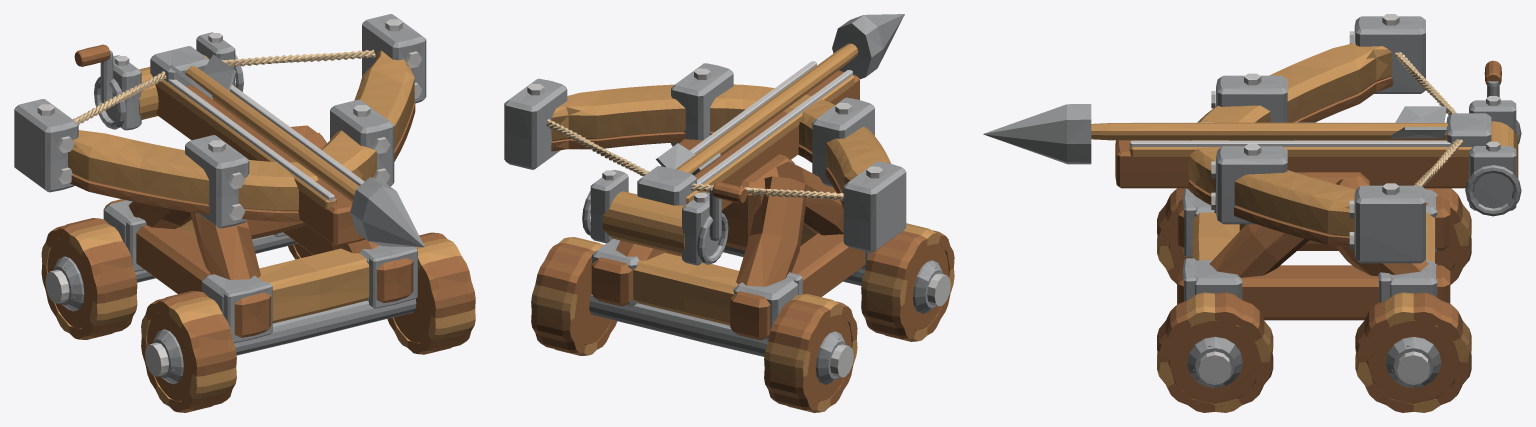
File: kingsreach.glb
3 renders of one model, left to right at view 1: azimuth 30°, elevation 25°; view 2: azimuth 150°, elevation 25°; view 3: azimuth 270°, elevation 25°, orthographic. The views are drawn at different scales.
Parts seen in each view (by area): view 1: Ballista — broad continuously curved upper laminate 1, Siege carriage — wheel 1 0.285 — source angular joined timbe (×6), Siege carriage — wheel 1 -0.285 — source angular joined timb (×6), Siege carriage — chamfered cross timber -0.28, Siege carriage — chamfered main timber 1, Siege carriage — wheel -1 -0.285 — source angular joined tim (×5), Ballista — deep chamfered firing bed, Ballista — broad continuously curved upper laminate -1, Ballista — thick limb collar 1 1, Ballista — long loaded bolt shaft, Siege carriage — physical axle -0.285, Ballista — large physical steel bolt head (+36 smaller); view 2: Ballista — broad continuously curved upper laminate -1, Siege carriage — wheel 1 0.285 — source angular joined timbe (×6), Siege carriage — chamfered cross timber 0.28, Ballista — rear timber brace 1, Siege carriage — wheel -1 0.285 — source angular joined timb (×5), Siege carriage — chamfered main timber 1, Siege carriage — wheel 1 -0.285 — source angular joined timb (×5), Ballista — thick limb collar 1 1, Ballista — thick limb collar -1 1, Ballista — transverse winch barrel, Siege carriage — physical axle 0.285, Ballista — long loaded bolt shaft (+32 smaller); view 3: Siege carriage — chamfered main timber -1, Ballista — deep chamfered firing bed, Ballista — broad continuously curved upper laminate -1, Ballista — broad continuously curved upper laminate 1, Ballista — long loaded bolt shaft, Ballista — thick limb collar -1 1, Ballista — large physical steel bolt head, Siege carriage — wheel -1 0.285 — source angular joined timb (×6), Siege carriage — wheel -1 -0.285 — chamfered inner timber di, Siege carriage — wheel -1 0.285 — chamfered inner timber dis, Siege carriage — wheel -1 -0.285 — source angular joined tim (×5), Ballista — thick limb collar 1 1 (+28 smaller).
Part boxes in pixels (x1,y1,x2,y2): Ballista — broad continuously curved upper laminate 1: (68,130,318,211); Siege carriage — wheel 1 0.285 — source angular joined timbe (×6): (56,218,137,337); Siege carriage — wheel 1 -0.285 — source angular joined timb (×6): (155,290,236,410); Siege carriage — chamfered cross timber -0.28: (258,248,369,323); Siege carriage — chamfered main timber 1: (103,199,271,337); Siege carriage — wheel -1 -0.285 — source angular joined tim (×5): (414,238,475,351); Ballista — deep chamfered firing bed: (155,84,365,245); Ballista — broad continuously curved upper laminate -1: (321,50,414,181); Ballista — thick limb collar 1 1: (14,99,78,192); Ballista — long loaded bolt shaft: (185,66,359,201); Siege carriage — physical axle -0.285: (234,299,416,355); Ballista — large physical steel bolt head: (350,177,424,247); Ballista — broad continuously curved upper laminate -1: (551,84,774,141); Siege carriage — wheel 1 0.285 — source angular joined timbe (×6): (764,294,843,410); Siege carriage — chamfered cross timber 0.28: (633,253,739,325); Ballista — rear timber brace 1: (736,176,805,286); Siege carriage — wheel -1 0.285 — source angular joined timb (×5): (531,243,594,353); Siege carriage — chamfered main timber 1: (730,233,865,340); Siege carriage — wheel 1 -0.285 — source angular joined timb (×5): (861,231,927,339); Ballista — thick limb collar 1 1: (843,161,906,252); Ballista — thick limb collar -1 1: (504,78,567,169); Ballista — transverse winch barrel: (602,191,684,255); Siege carriage — physical axle 0.285: (589,294,768,356); Ballista — long loaded bolt shaft: (676,43,858,174); Siege carriage — chamfered main timber -1: (1177,265,1450,320); Ballista — deep chamfered firing bed: (1115,140,1468,188); Ballista — broad continuously curved upper laminate -1: (1188,140,1355,236); Ballista — broad continuously curved upper laminate 1: (1189,43,1392,140); Ballista — long loaded bolt shaft: (1091,122,1447,140); Ballista — thick limb collar -1 1: (1354,185,1425,263); Ballista — large physical steel bolt head: (983,104,1091,164); Siege carriage — wheel -1 0.285 — source angular joined timb (×6): (1355,292,1471,362); Siege carriage — wheel -1 -0.285 — chamfered inner timber di: (1168,320,1261,403); Siege carriage — wheel -1 0.285 — chamfered inner timber dis: (1367,320,1459,403); Siege carriage — wheel -1 -0.285 — source angular joined tim (×5): (1165,292,1273,362); Ballista — thick limb collar 1 1: (1354,16,1425,93).
Size of the model in its own units: 1.26 by 0.7774 by 1.55.
